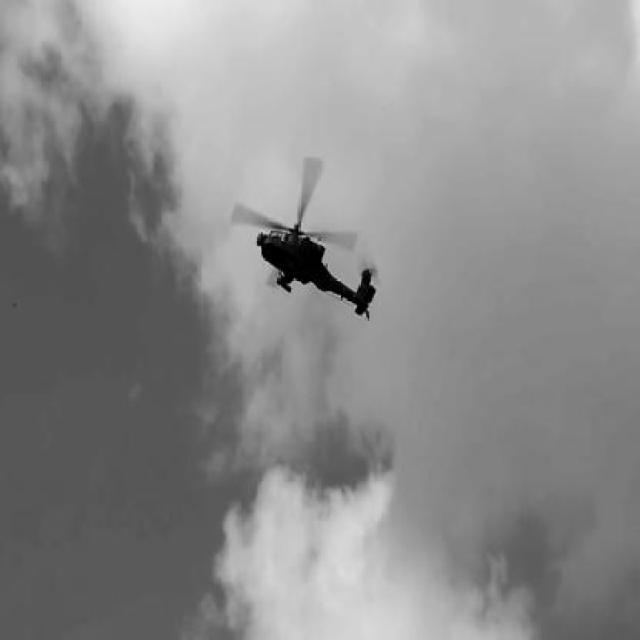Helicopter: (229, 156, 381, 322)
